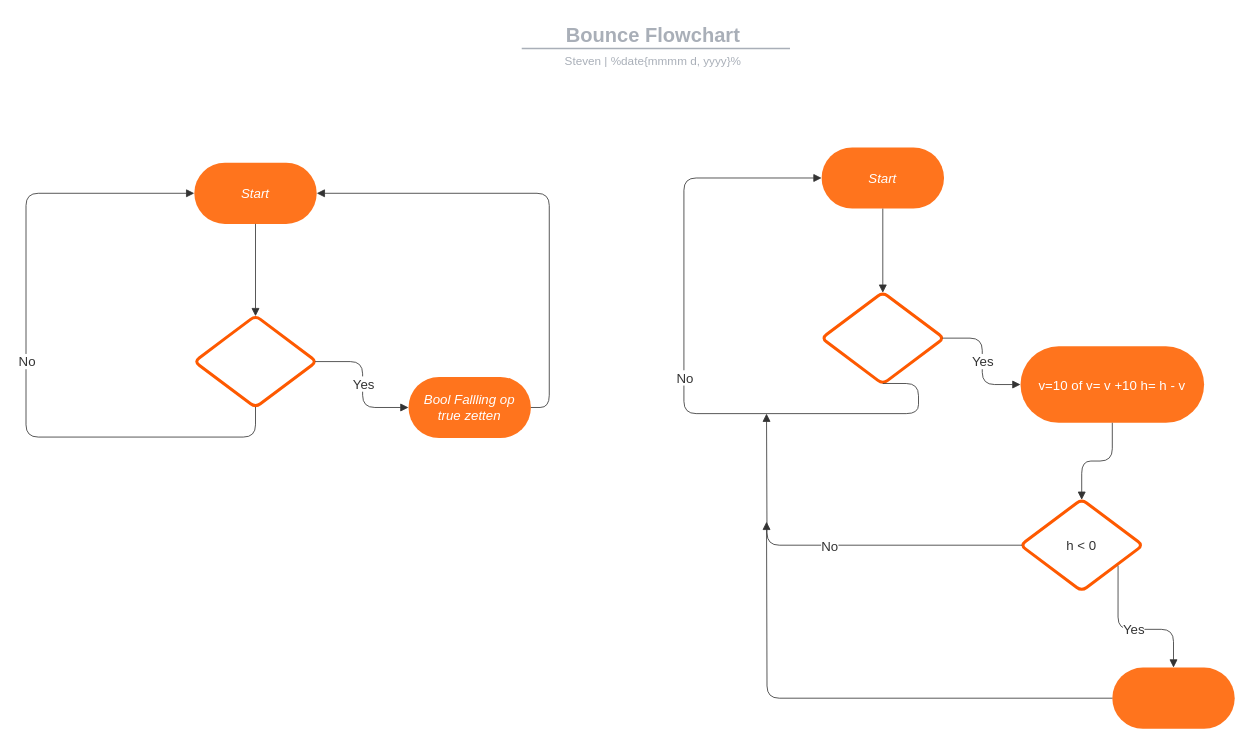
Some shapes in this 1253 by 748 pixel diagram are drawn without their labels. Here are the shapes that lost their labels. From the top down, the centre of each, then its label:
At pixel 882 337: "Falling true??".
At pixel 255 361: "Op knop gedrukt".
At pixel 1173 698: "Falling False".
